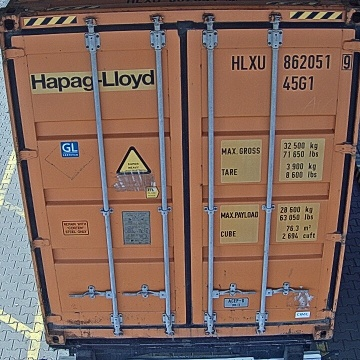serial_id: (232, 54, 352, 69)
